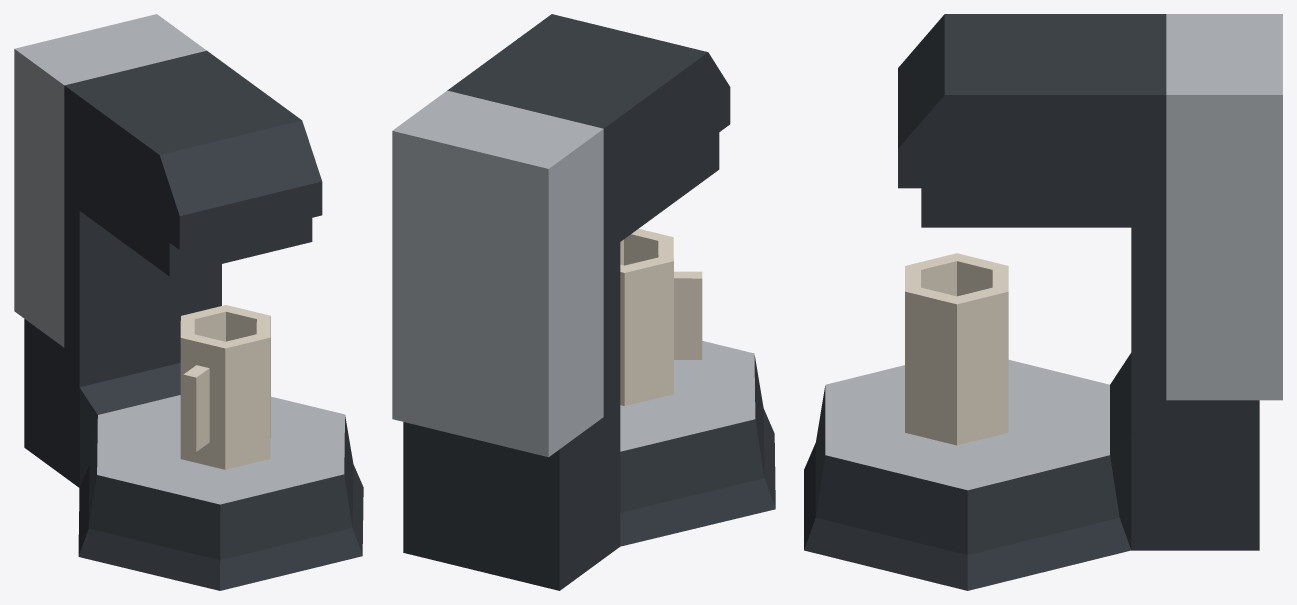
File: coffee-machine.glb
3 views of the same model, side by side, from view 1: azimuth 30°, elevation 25°; view 2: azimuth 150°, elevation 25°; view 3: azimuth 270°, elevation 25° (orthographic). The views are drawn at different scales.
Visible parts, largest first — view 1: coffee-machine (×2); view 2: coffee-machine (×2); view 3: coffee-machine (×2).
Part boxes in pixels (bbox=[...]): coffee-machine (×2): bbox=[14, 14, 363, 590]; coffee-machine (×2): bbox=[392, 14, 775, 590]; coffee-machine (×2): bbox=[804, 14, 1282, 590].
Bounding box in the file's own units: 0.32 × 0.42 × 0.4.
